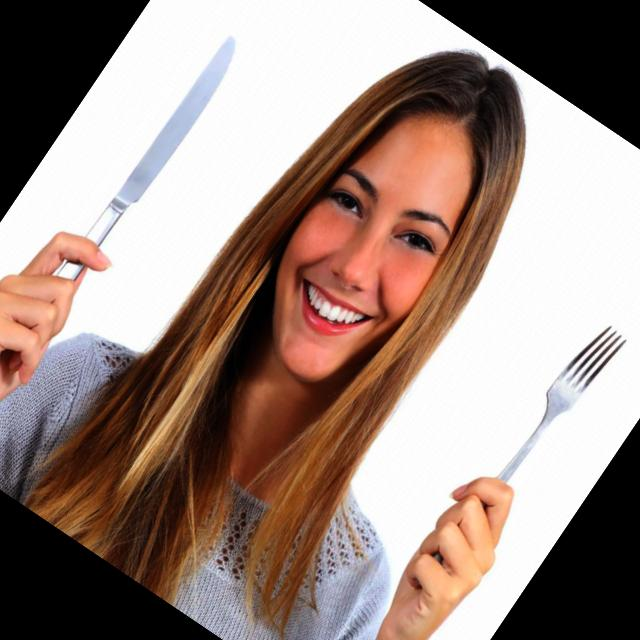fork: (412, 315, 630, 610)
